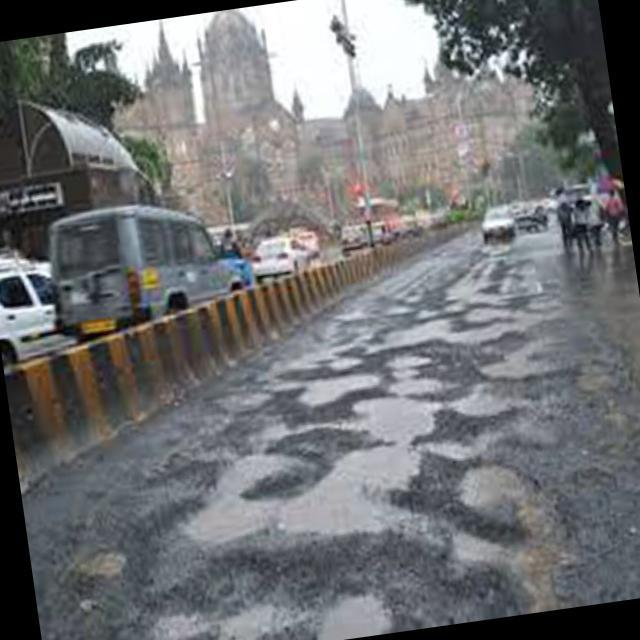Pothole: (282, 451, 432, 544), (180, 487, 272, 544), (319, 580, 395, 640), (345, 395, 443, 440), (509, 539, 568, 613), (456, 454, 536, 508), (216, 590, 300, 640), (442, 516, 500, 571), (300, 365, 375, 404), (208, 384, 275, 422), (218, 445, 270, 487), (459, 382, 513, 422), (147, 603, 205, 640), (431, 426, 489, 462), (76, 544, 130, 580)
